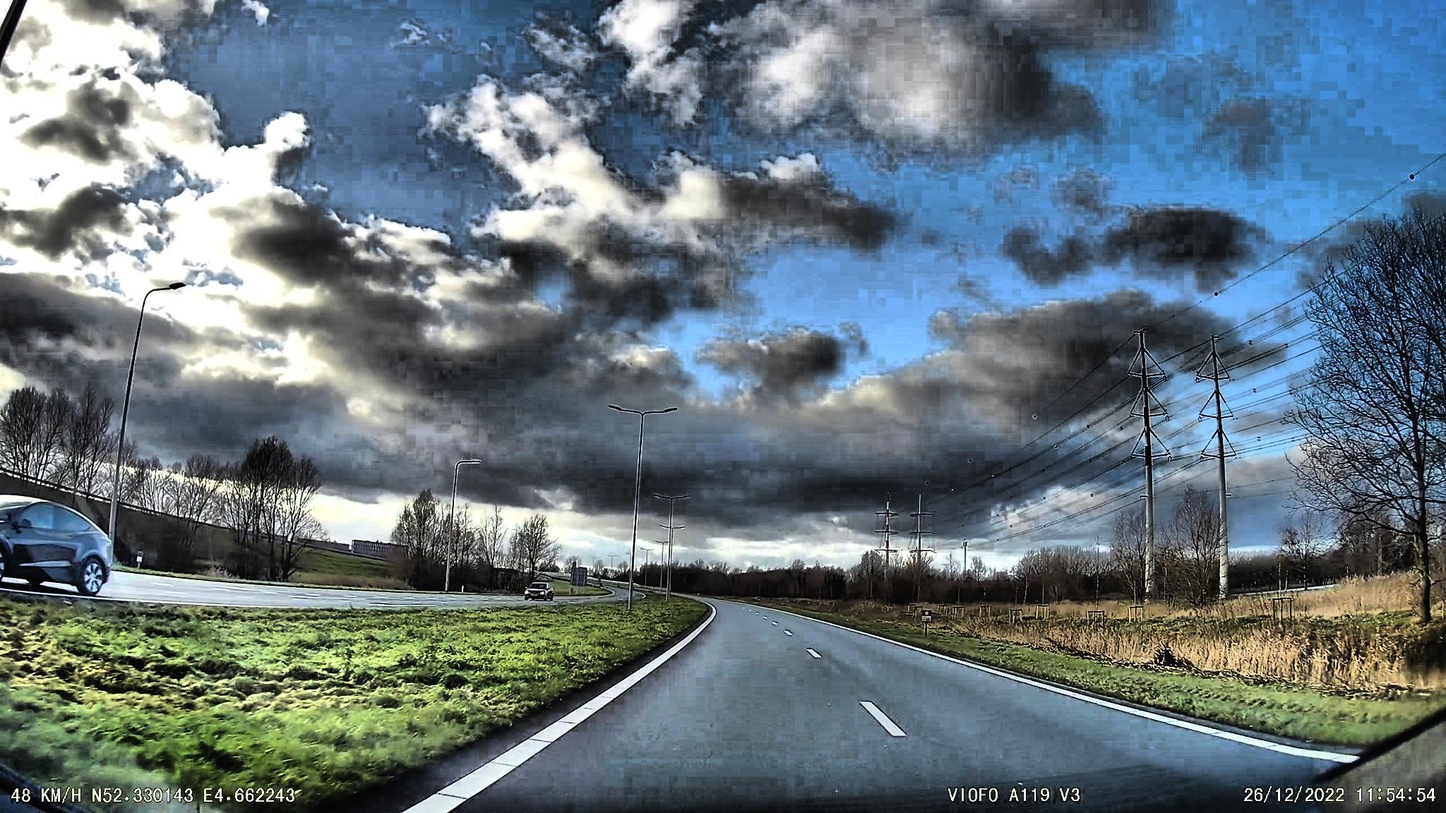Roads: (327, 604, 1446, 813)
